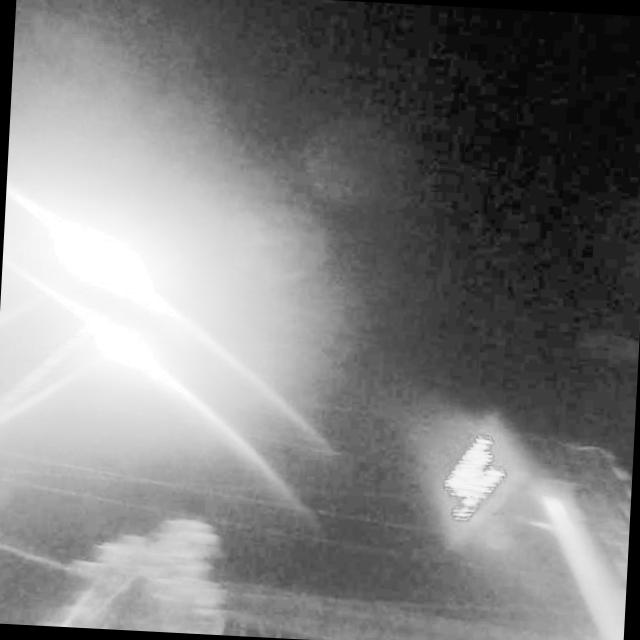Light: (55, 206, 178, 312), (75, 294, 160, 379)
